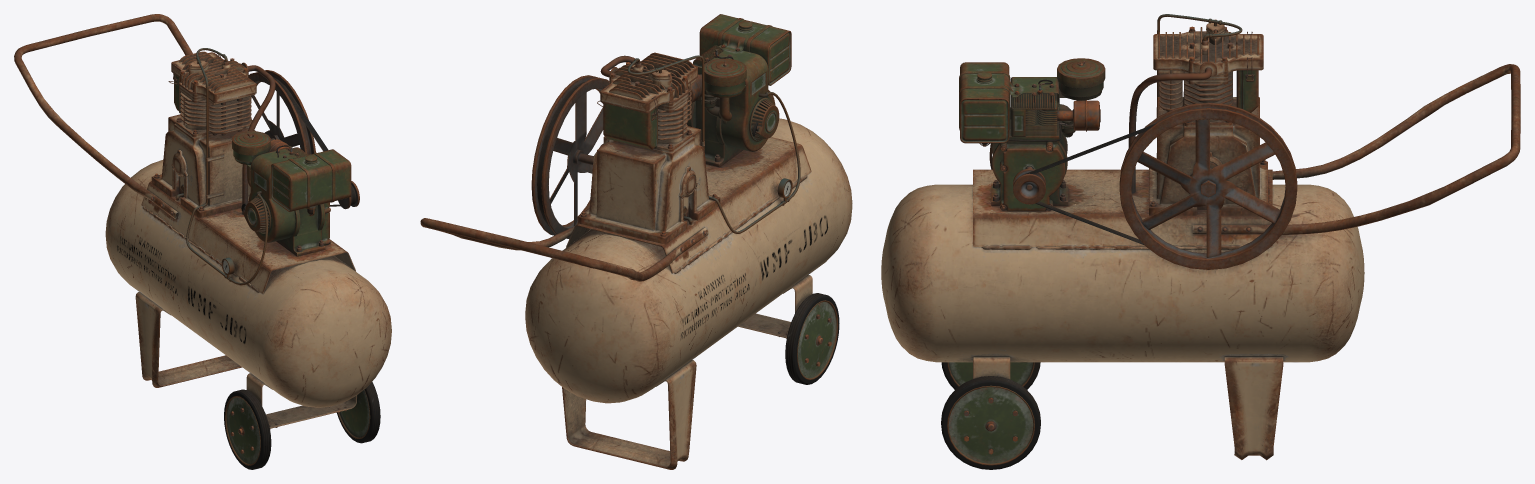
File: old_military_compressor_2k.gltf
3 renders of one model, left to right at view 1: azimuth 30°, elevation 25°; view 2: azimuth 150°, elevation 25°; view 3: azimuth 270°, elevation 25°, orthographic. The views are drawn at different scales.
Parts seen in each view (by area): view 1: old_military_compressor; view 2: old_military_compressor; view 3: old_military_compressor.
Boxes of the visible parts, x1,y1,x2,y2 form: old_military_compressor: (14, 14, 391, 469); old_military_compressor: (420, 14, 852, 469); old_military_compressor: (881, 14, 1520, 469).
Bounding box in the file's own units: 0.5983 × 1.18 × 1.68.
Materials: 2 (2 with a texture image).
